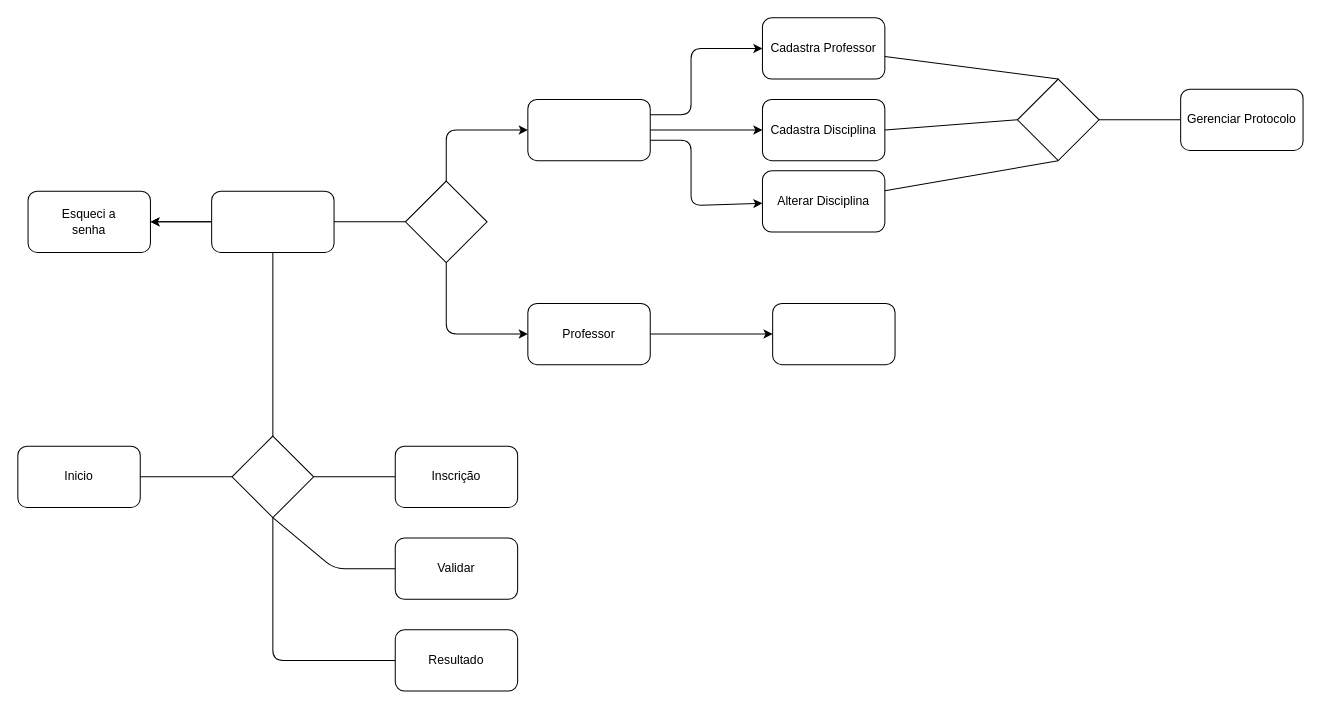
The diagram is 1321 pixels wide and 709 high, and some of its shapes have lost their labels. Each missing label, with the centre of its shape:
ADM: (588,129)
Avaliar Aluno: (833,333)
Login: (272,221)
